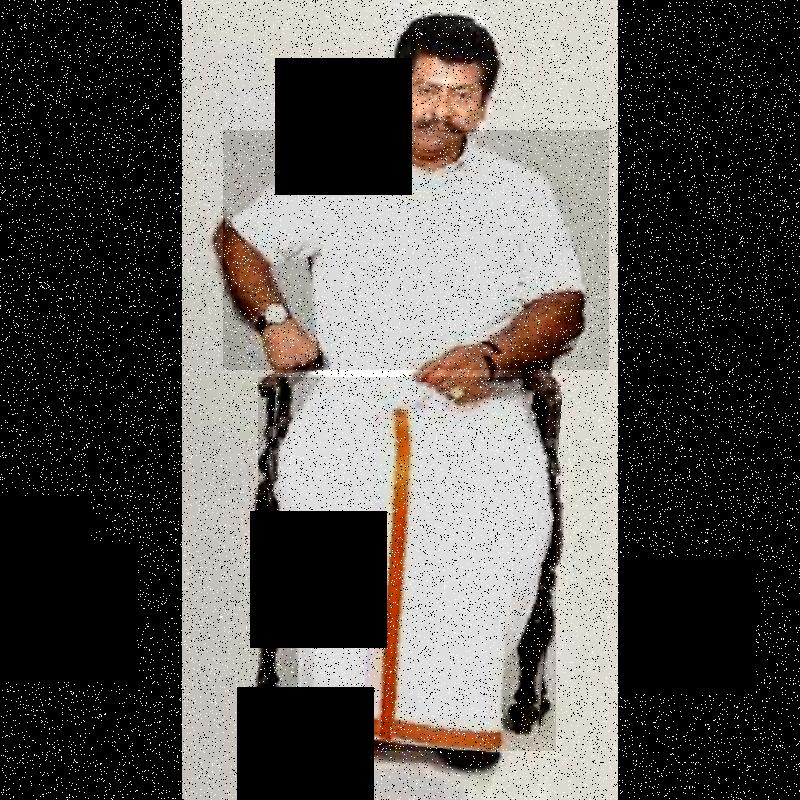Dhoti: (258, 377, 556, 751)
Shirt: (223, 130, 609, 370)
